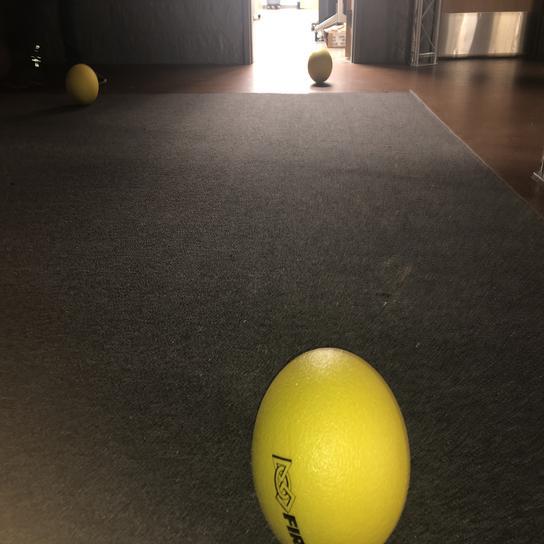ball: (246, 343, 416, 543), (62, 61, 100, 108), (304, 46, 334, 87)
